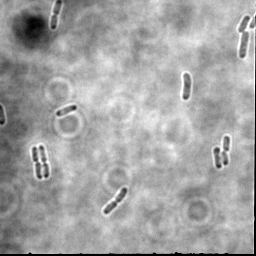Dividing: (101, 185, 130, 216), (37, 143, 51, 180), (30, 145, 44, 180), (48, 1, 63, 31), (220, 133, 232, 166)
Rod: (180, 71, 193, 101), (237, 30, 250, 59), (54, 103, 78, 118), (236, 13, 252, 34), (212, 145, 223, 170)
